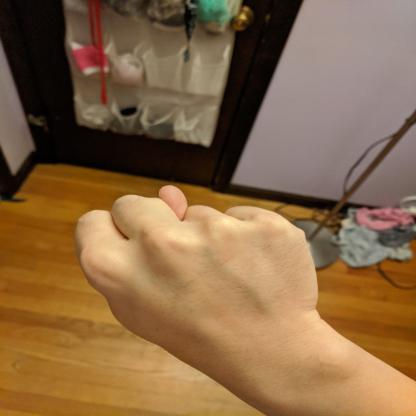N: (70, 181, 322, 359)
